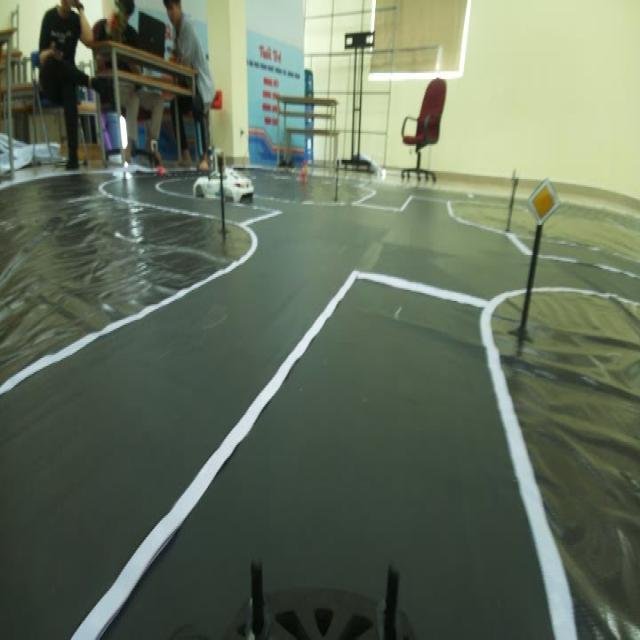priority: (528, 164, 557, 224)
